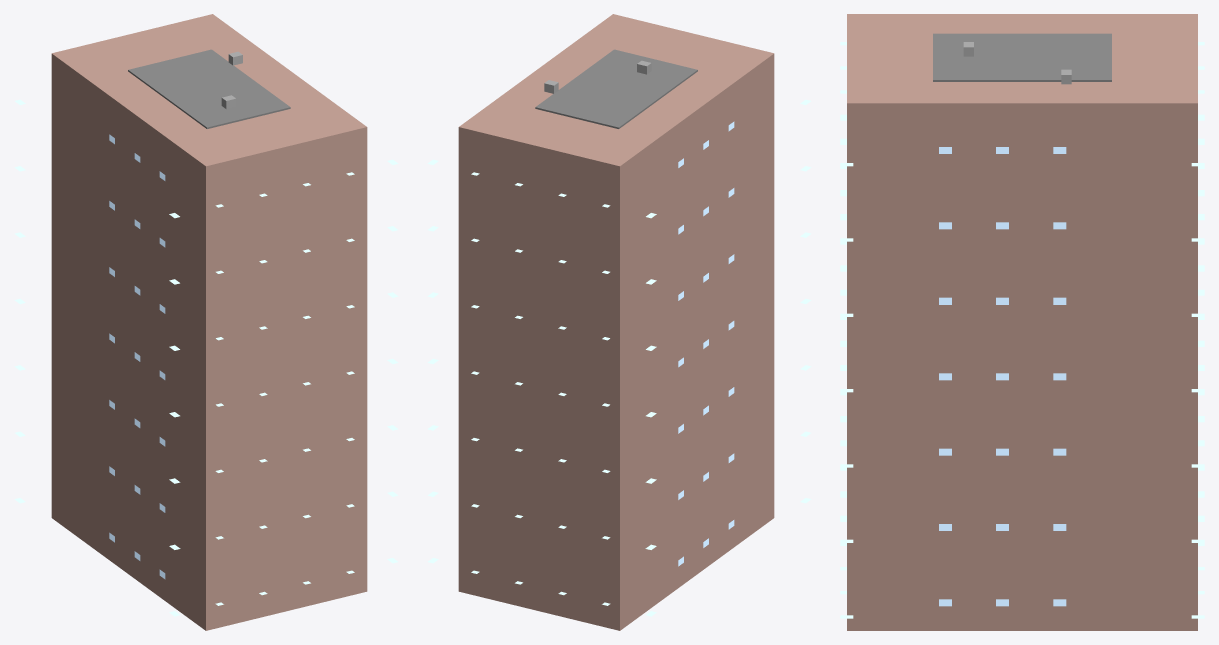
File: residential_5.glb
3 renders of one model, left to right at view 1: azimuth 30°, elevation 25°; view 2: azimuth 150°, elevation 25°; view 3: azimuth 270°, elevation 25°, orthographic. The views are drawn at different scales.
Parts seen in each view (by area): view 1: residential_5_body, residential_5_roof; view 2: residential_5_body, residential_5_roof; view 3: residential_5_body, residential_5_roof.
Boxes of the visible parts, box(x1,y1,x2,y2) form: residential_5_body: box(51, 14, 367, 630); residential_5_roof: box(128, 49, 290, 128); residential_5_body: box(458, 14, 774, 630); residential_5_roof: box(535, 49, 697, 128); residential_5_body: box(847, 14, 1197, 630); residential_5_roof: box(933, 33, 1111, 81).
Size of the model in its own units: 11.3 by 22.95 by 14.01.
